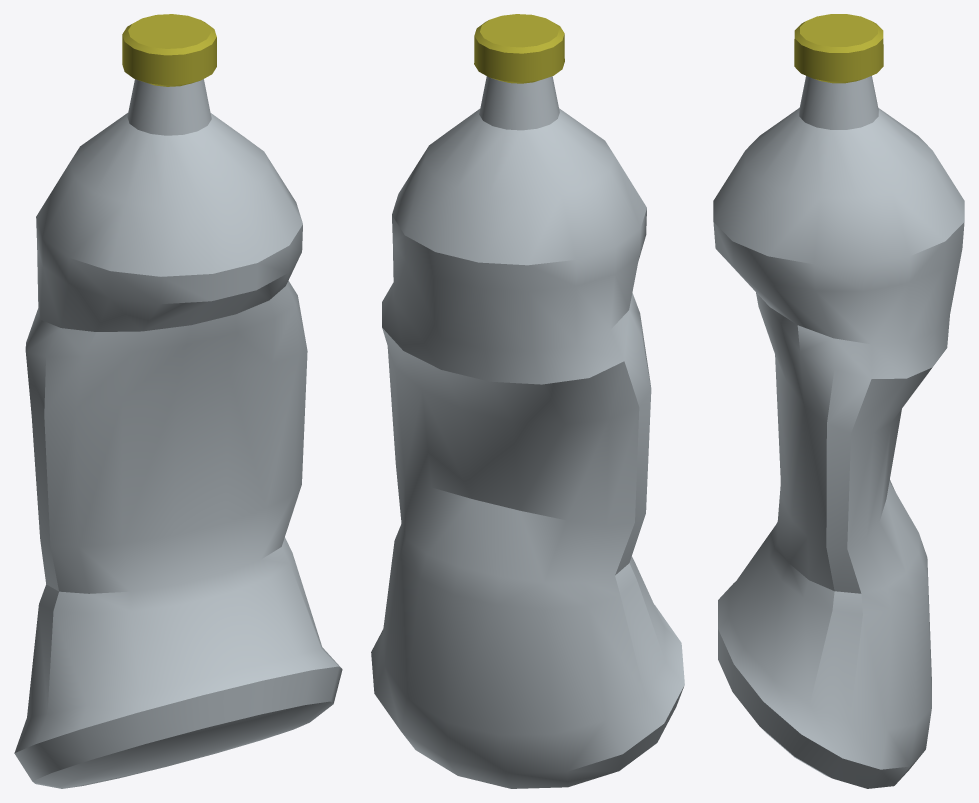
Rendered from Botella_10.fbx.
3 renders of one model, left to right at view 1: azimuth 30°, elevation 25°; view 2: azimuth 150°, elevation 25°; view 3: azimuth 270°, elevation 25°, orthographic. The views are drawn at different scales.
Visible parts, largest first — view 1: Botella_10; view 2: Botella_10; view 3: Botella_10.
Boxes of the visible parts, <box> form: Botella_10: <box>14,14,342,788</box>; Botella_10: <box>371,14,684,788</box>; Botella_10: <box>713,14,964,788</box>.
Size of the model in its own units: 30.73 by 72.83 by 22.78.
